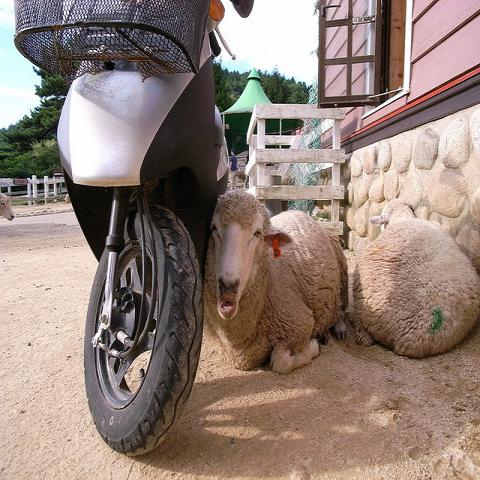motorcycle: (8, 0, 263, 463)
